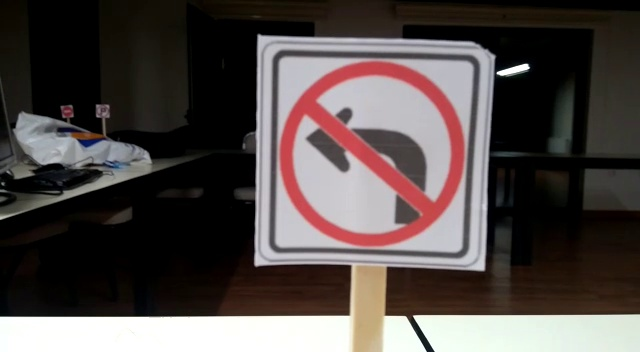sola_donulmez: (256, 49, 486, 261)
